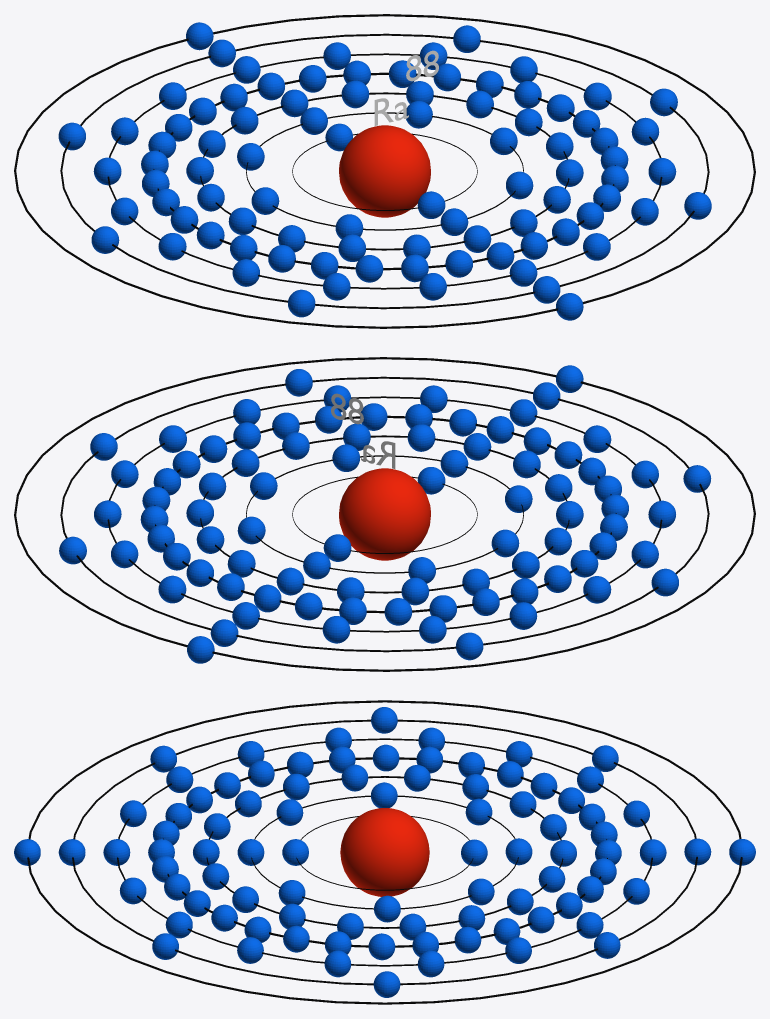
The picture shows the model from 3 angles, top to bottom: view 1: azimuth 30°, elevation 25°; view 2: azimuth 150°, elevation 25°; view 3: azimuth 270°, elevation 25°; orthographic projection. The views are drawn at different scales.
Parts seen in each view (by area): view 1: Ra4, Ra5, Ra3, Proton, Ra6, Ra2, n7, n6, n5, Ra7, Ra1, n3 (+2 smaller); view 2: Ra4, Ra3, Ra5, Proton, Ra6, Ra2, n7, n6, n5, Ra7, Ra1, n3 (+2 smaller); view 3: Ra4, Ra3, Ra5, Proton, Ra2, Ra6, n7, n6, n5, Ra1, Ra7, n3 (+2 smaller).
Boxes of the visible parts, x1=… form: Ra4: x1=141, y1=60, x2=628, y2=282; Ra5: x1=93, y1=42, x2=676, y2=300; Ra3: x1=186, y1=80, x2=583, y2=261; Proton: x1=339, y1=125, x2=430, y2=217; Ra6: x1=58, y1=25, x2=711, y2=317; Ra2: x1=237, y1=101, x2=533, y2=239; n7: x1=14, y1=14, x2=755, y2=328; n6: x1=60, y1=33, x2=709, y2=309; n5: x1=107, y1=53, x2=662, y2=289; Ra7: x1=186, y1=22, x2=583, y2=320; Ra1: x1=325, y1=123, x2=445, y2=218; n3: x1=200, y1=92, x2=569, y2=250; Ra4: x1=140, y1=403, x2=628, y2=625; Ra3: x1=186, y1=423, x2=583, y2=605; Ra5: x1=94, y1=385, x2=675, y2=643; Proton: x1=339, y1=468, x2=430, y2=560; Ra6: x1=59, y1=369, x2=711, y2=660; Ra2: x1=237, y1=444, x2=532, y2=583; n7: x1=14, y1=357, x2=755, y2=671; n6: x1=60, y1=376, x2=709, y2=652; n5: x1=107, y1=396, x2=662, y2=632; Ra7: x1=187, y1=365, x2=583, y2=663; Ra1: x1=323, y1=467, x2=445, y2=561; n3: x1=200, y1=435, x2=569, y2=593; Ra4: x1=148, y1=744, x2=621, y2=960; Ra3: x1=193, y1=764, x2=576, y2=940; Ra5: x1=103, y1=727, x2=666, y2=977; Proton: x1=340, y1=808, x2=429, y2=896; Ra2: x1=237, y1=782, x2=532, y2=922; Ra6: x1=58, y1=707, x2=711, y2=997; n7: x1=27, y1=700, x2=742, y2=1004; n6: x1=72, y1=719, x2=697, y2=985; n5: x1=117, y1=738, x2=652, y2=966; Ra1: x1=282, y1=839, x2=487, y2=866; Ra7: x1=14, y1=839, x2=755, y2=865; n3: x1=206, y1=776, x2=563, y2=928.
Size of the model in its own units: 802 by 180 by 830.
